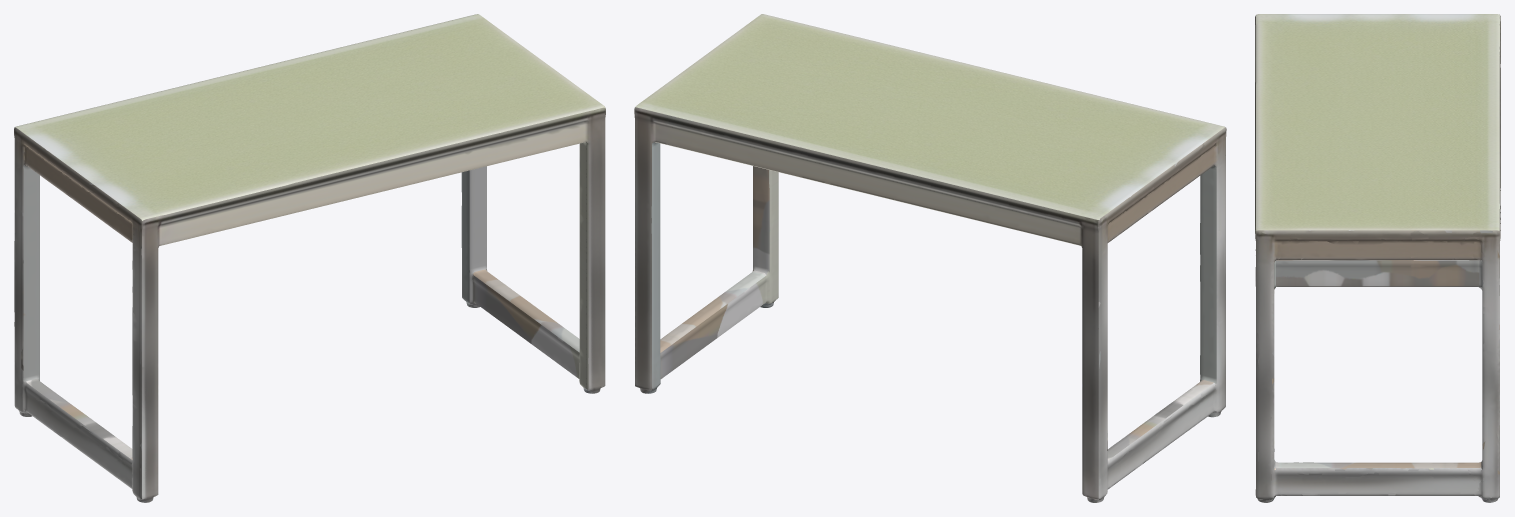
Rendered from desk__desk#2.glb.
3 views of the same model, side by side, from view 1: azimuth 30°, elevation 25°; view 2: azimuth 150°, elevation 25°; view 3: azimuth 270°, elevation 25° (orthographic). The views are drawn at different scales.
Parts seen in each view (by area): view 1: tmpu6ruarkd.ply; view 2: tmpu6ruarkd.ply; view 3: tmpu6ruarkd.ply.
Boxes of the visible parts, x1,y1,x2,y2 form: tmpu6ruarkd.ply: (14, 14, 605, 502); tmpu6ruarkd.ply: (634, 14, 1226, 502); tmpu6ruarkd.ply: (1255, 14, 1500, 502).
Size of the model in its own units: 1.99 by 1.17 by 0.9511.
1 material, 1 textured.
